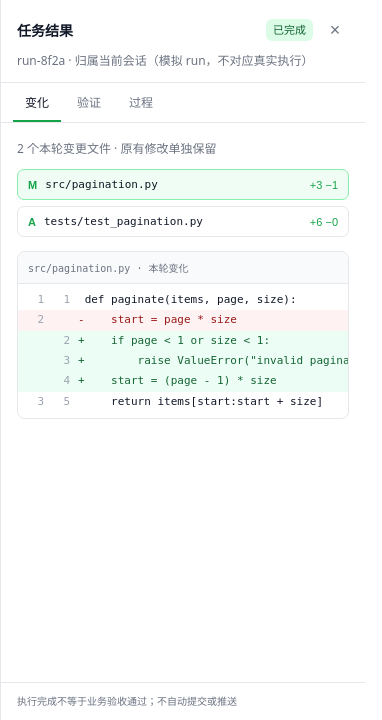
Test: TaskInspector 验证页签 › 通过：展示命令证据与输出
Click the tab "验证".
click(89, 102)  # box x1=65 y1=83 x2=113 y2=122
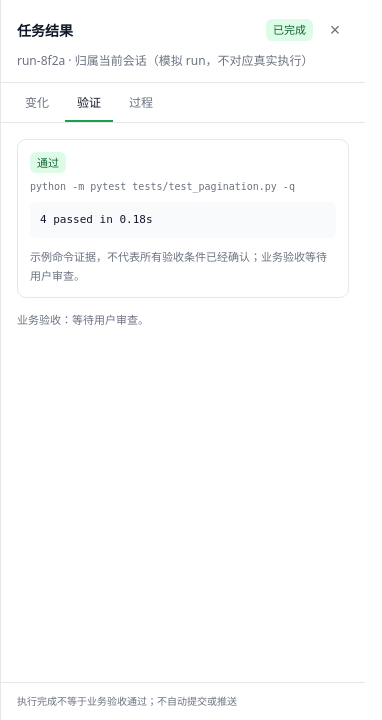
Expected: the text with test id "validation-pill" reads "通过", x1=37 y1=155 x2=59 y2=170
Expected: the text "python -m pytest tests/test_pagination.py -q" is shown, x1=30 y1=181 x2=295 y2=192
Expected: the text "4 passed in 0.18s" is shown, x1=30 y1=202 x2=336 y2=238
